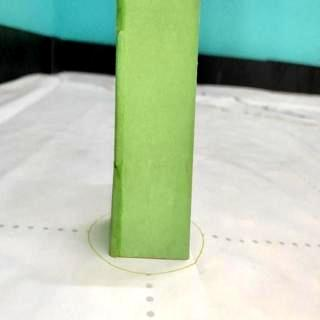greenbox: (111, 0, 199, 258)
